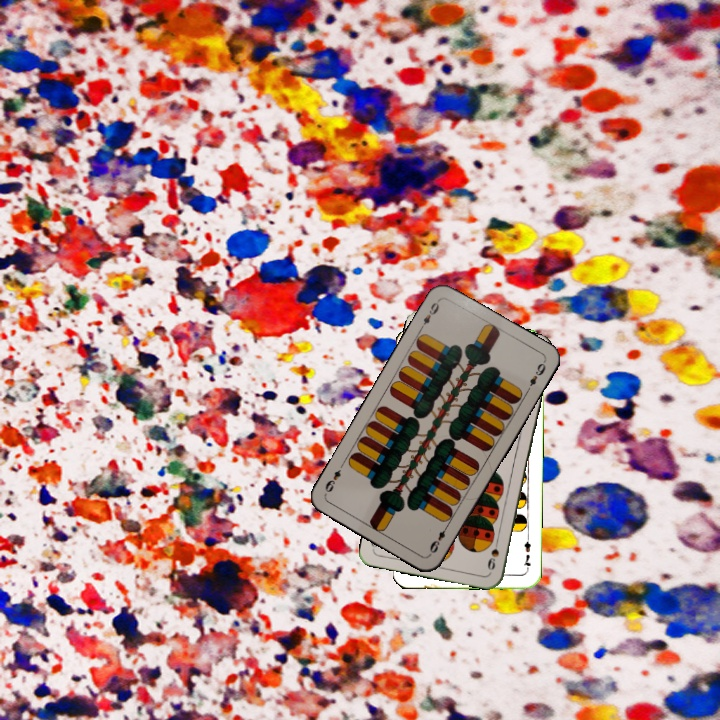E7: (520, 533, 534, 573)
E9: (416, 296, 442, 333), (425, 520, 451, 556)
S9: (483, 533, 502, 573)
